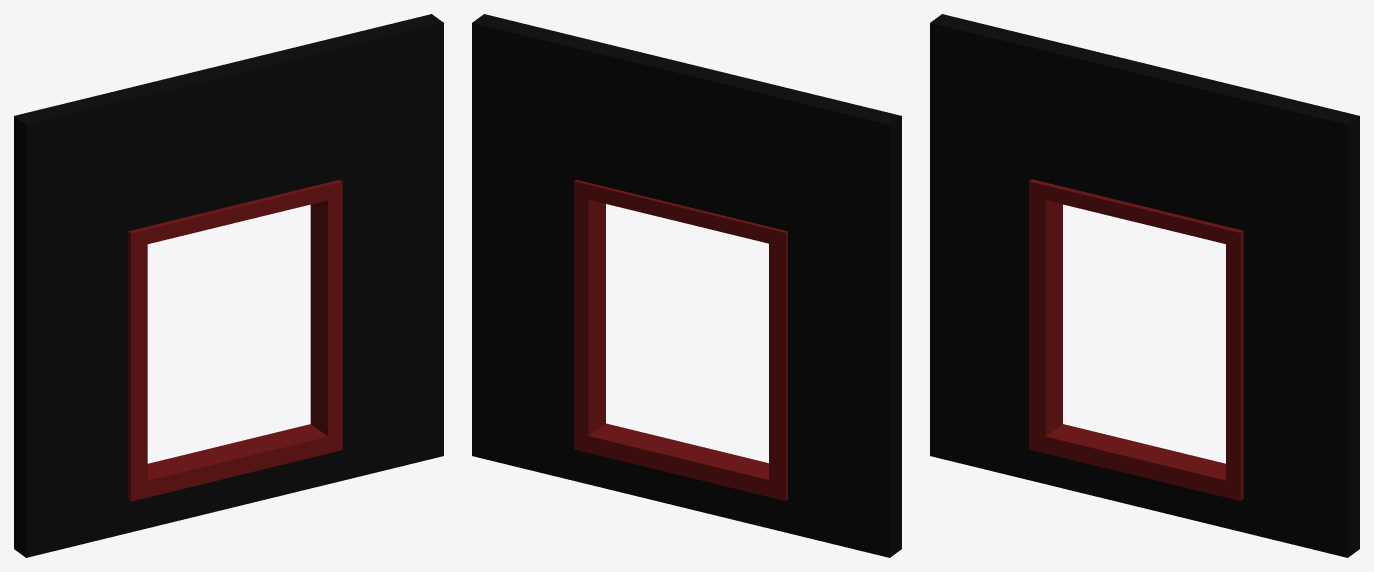
Rendered from Front W Wall - Right_Left.FBX.
The picture shows the model from 3 angles, left to right: view 1: azimuth 30°, elevation 25°; view 2: azimuth 150°, elevation 25°; view 3: azimuth 330°, elevation 25°; orthographic projection.
Parts seen in each view (by area): view 1: Box039; view 2: Box039; view 3: Box039.
Part boxes in pixels (x1,y1,x2,y2): Box039: (14,14,443,557); Box039: (472,14,901,557); Box039: (930,14,1359,557).
Size of the model in its own units: 20 by 19.82 by 1.43.
